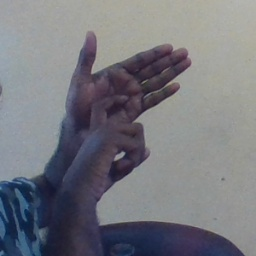R: (59, 25, 195, 186)
